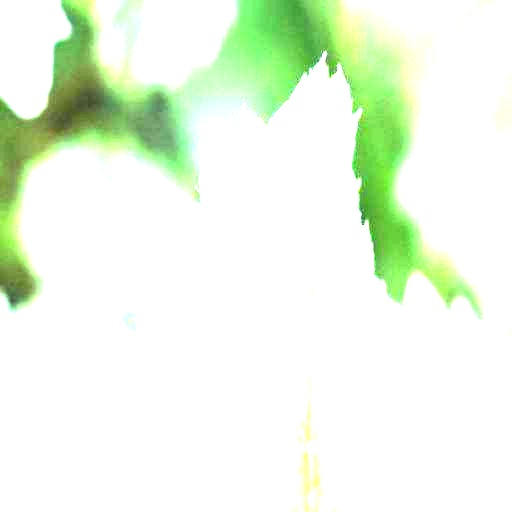Powdery Mildew Leaf: (115, 51, 435, 511)
